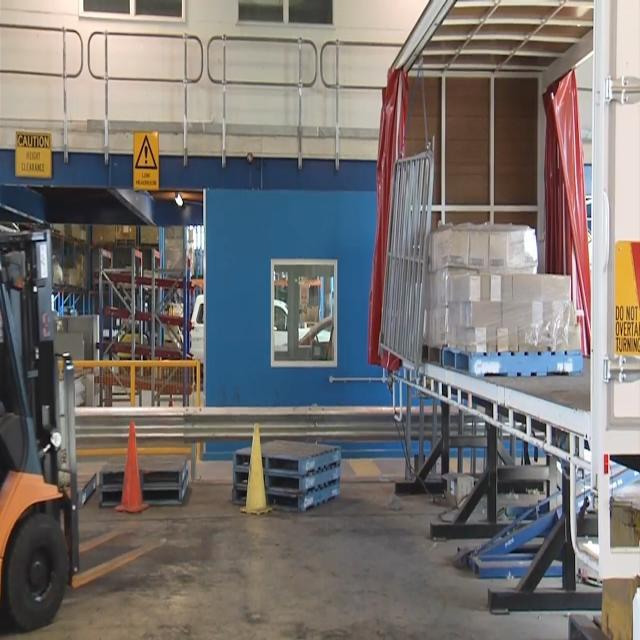box: (425, 217, 586, 356)
forklift: (0, 199, 170, 638), (94, 444, 195, 513)
pallets: (229, 436, 346, 512), (420, 337, 591, 383)
